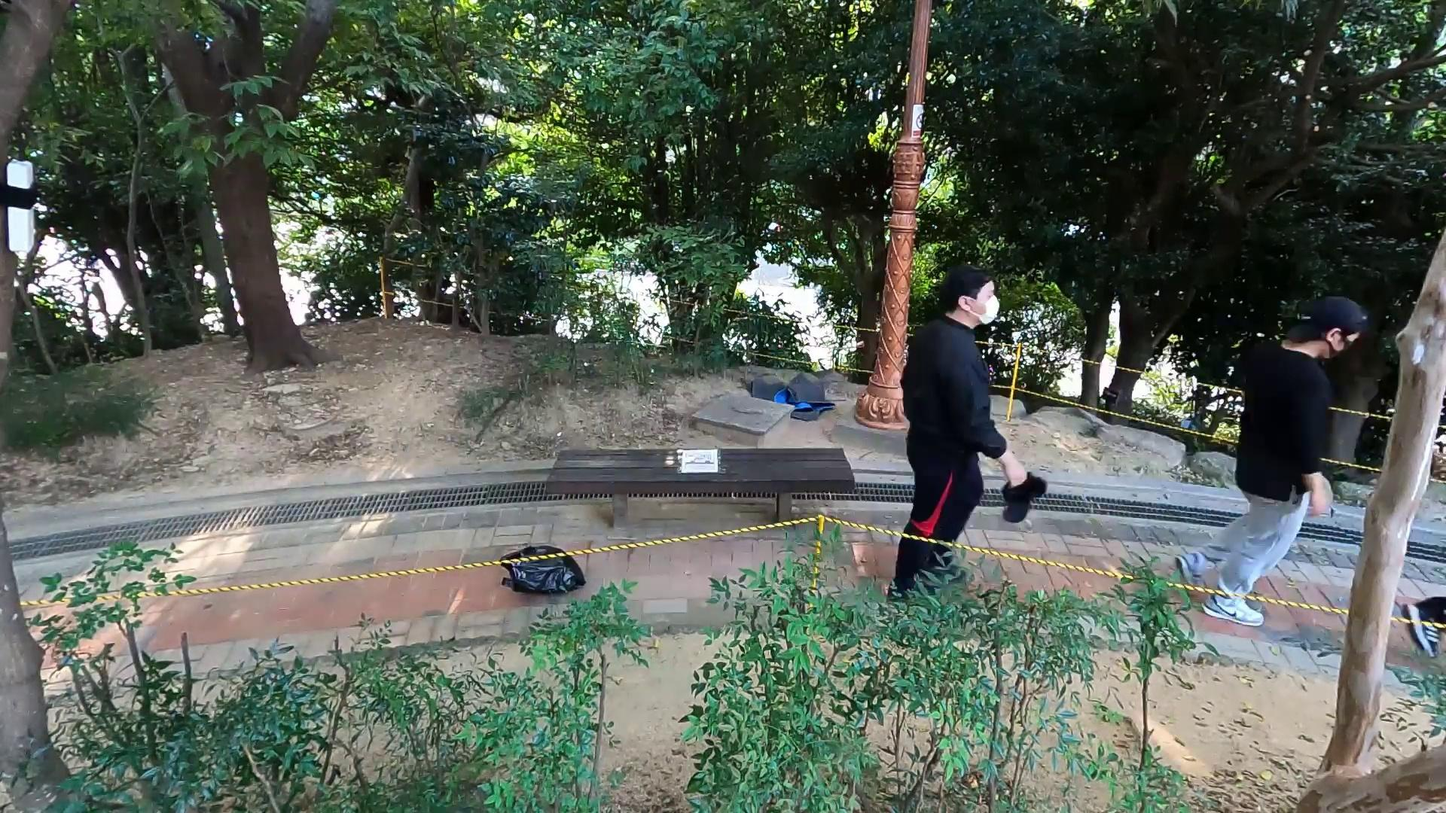person: (1171, 286, 1370, 631), (889, 263, 1031, 613)
trash: (491, 538, 591, 603), (747, 369, 842, 425), (1000, 469, 1046, 530)
